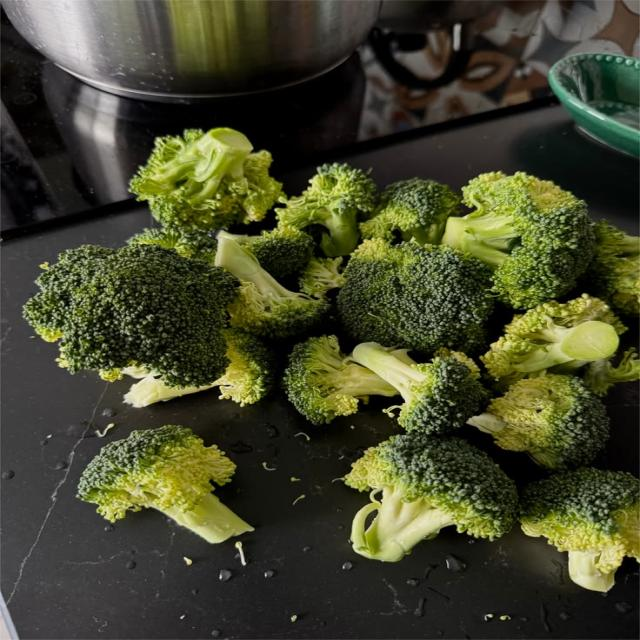broccoli: (24, 244, 238, 386), (344, 434, 518, 561), (441, 171, 594, 309), (77, 425, 253, 543), (337, 239, 494, 354), (129, 128, 283, 230), (520, 468, 639, 592), (468, 374, 610, 470), (481, 294, 626, 387), (353, 342, 487, 434), (124, 329, 276, 407), (216, 237, 329, 338), (282, 335, 397, 424), (275, 163, 377, 257), (24, 244, 115, 341), (360, 178, 460, 243), (581, 220, 639, 315), (218, 226, 315, 279), (127, 228, 217, 263), (583, 348, 639, 396), (299, 256, 345, 298)
